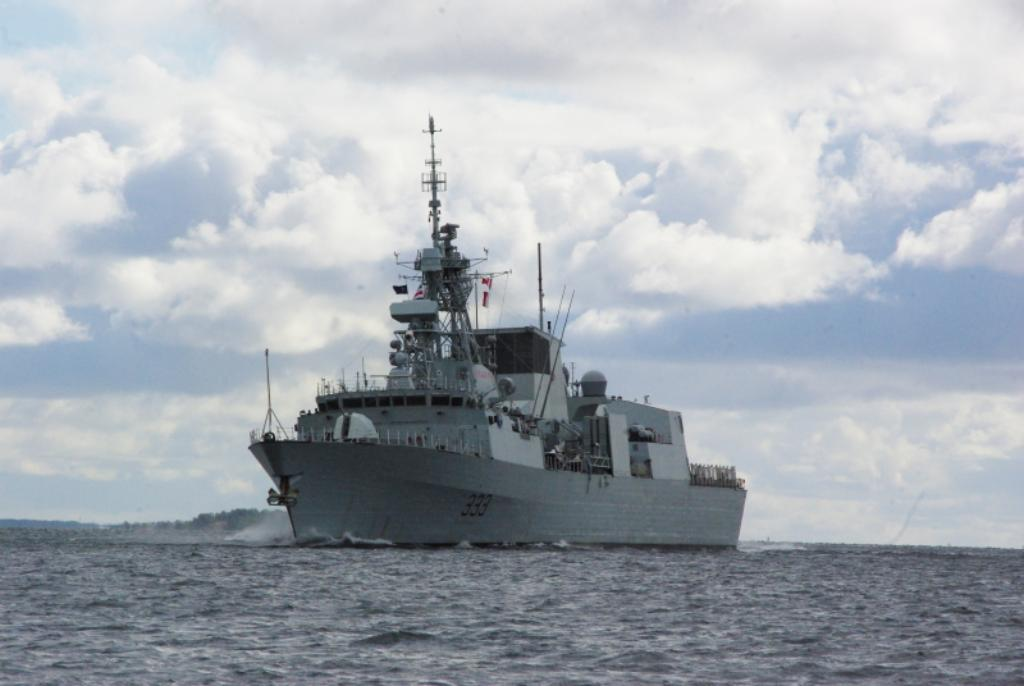Warship: (247, 106, 751, 550)
